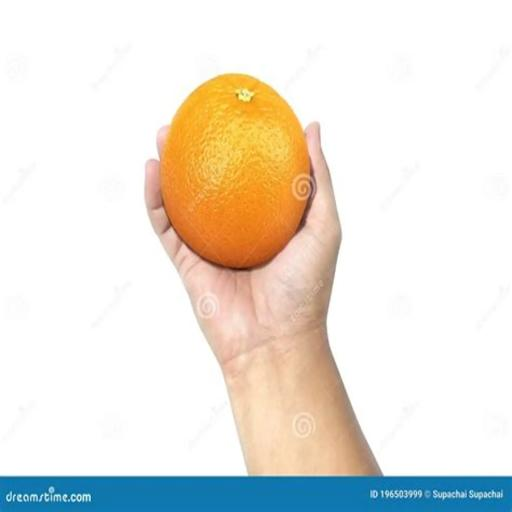orange: (161, 75, 309, 268)
